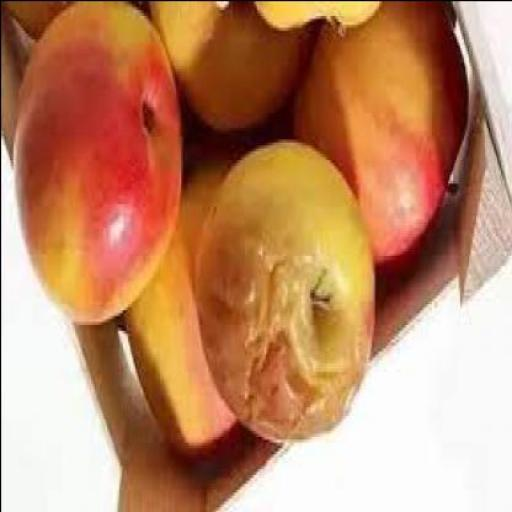biodegradable: (14, 3, 185, 327), (195, 144, 374, 442), (302, 20, 468, 282), (123, 241, 251, 462), (148, 2, 320, 136), (254, 3, 382, 33)
